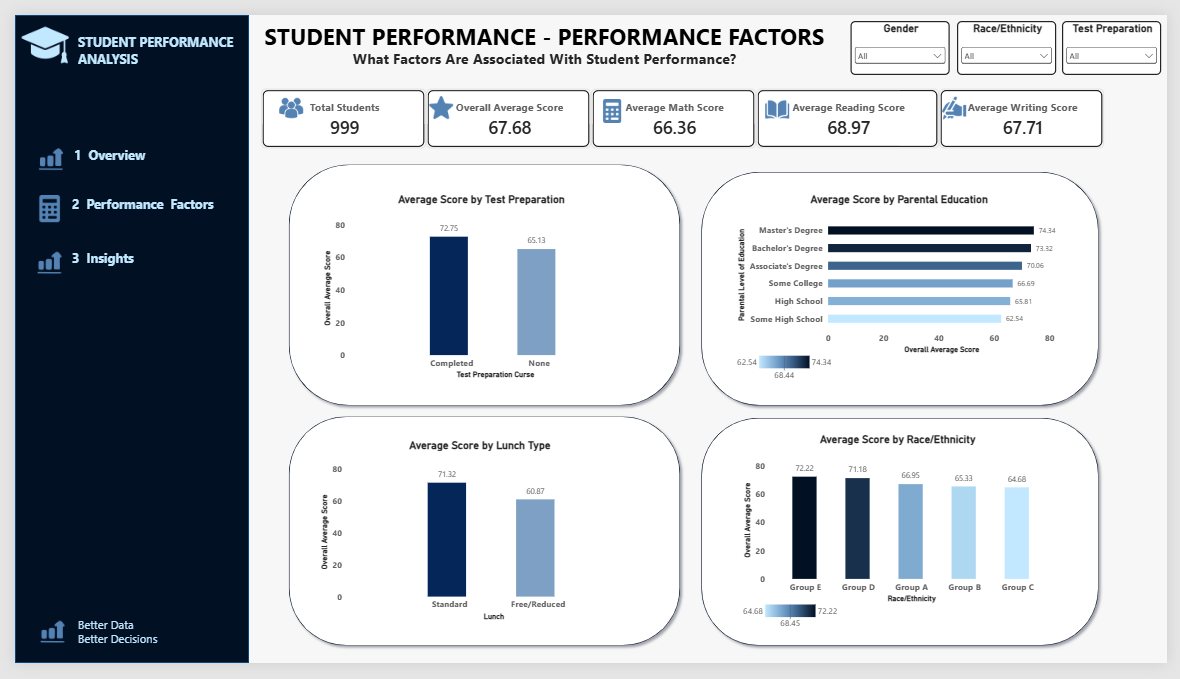

The page's visual inventory and layout, read from the dashboard file:
{"tool":"powerbi","page":{"name":"Performance  Factors","canvas":[1920,1080],"ordinal":1},"visuals":[{"type":"shape","box":[1135,252.5,680,407.5],"z":0},{"type":"shape","box":[1135,662.5,680,397.5],"z":1000},{"type":"shape","box":[447.5,660,670,400],"z":2000},{"type":"shape","box":[447.5,240,670,420],"z":3000},{"type":"cardVisual","fields":{"Data":["Students.Total Students"]},"box":[410,122.5,275,100],"z":4000},{"type":"cardVisual","fields":{"Data":["Students.Overall Average Score"]},"box":[685,122.5,275,100],"z":5000},{"type":"cardVisual","fields":{"Data":["Students.Average Math Score"]},"box":[960,122.5,275,100],"z":6000},{"type":"cardVisual","fields":{"Data":["Students.Average Reading Score"]},"box":[1235,122.5,305,100],"z":7000},{"type":"cardVisual","fields":{"Data":["Students.Average Writing Score"]},"box":[1540,122.5,275,100],"z":8000},{"type":"textbox","box":[290,0,1185,122.5],"z":9000},{"type":"shape","box":[0,0,390,1080],"z":10000},{"type":"image","box":[0,5,100,90],"z":11000},{"type":"textbox","box":[105,30,267.5,142.5],"z":12000},{"type":"slicer","title":"Gender","fields":{"Values":["Students.Gender"]},"box":[1392.5,10,165,90],"z":13000},{"type":"slicer","title":"Race/Ethnicity","fields":{"Values":["Students.Race/Ethnicity"]},"box":[1570,10,165,90],"z":14000},{"type":"slicer","title":"Test Preparation","fields":{"Values":["Students.Test Preparation Curse"]},"box":[1745,10,165,90],"z":15000},{"type":"textbox","box":[105,1002.5,267.5,57.5],"z":16000},{"type":"image","box":[15,300,85,45],"z":17000},{"type":"image","box":[27.5,217.5,65,45],"z":18000},{"type":"image","box":[30,1005,65,45],"z":19000},{"type":"image","box":[25,390,65,45],"z":20000},{"type":"textbox","box":[95,300,277.5,60],"z":21000},{"type":"textbox","box":[95,390,195,45],"z":22000},{"type":"textbox","box":[92.5,217.5,297.5,82.5],"z":23000},{"type":"clusteredColumnChart","title":"Average Score by Test Preparation","fields":{"Category":["Students.Test Preparation Curse"],"Y":["Students.Overall Average Score"]},"box":[497.5,282.5,560,340],"z":24000},{"type":"clusteredBarChart","title":"Average Score by Parental Education","fields":{"Category":["Students.Parental Level of Education"],"Y":["Students.Overall Average Score"]},"box":[1187.5,282.5,572.5,340],"z":25000},{"type":"clusteredColumnChart","title":"Average Score by Lunch Type","fields":{"Category":["Students.Lunch"],"Y":["Students.Overall Average Score"]},"box":[492.5,692.5,565,332.5],"z":26000},{"type":"clusteredColumnChart","title":"Average Score by Race/Ethnicity","fields":{"Category":["Students.Race/Ethnicity"],"Y":["Students.Overall Average Score"]},"box":[1197.5,682.5,547.5,355],"z":27000},{"type":"image","box":[435,135,50,40],"z":27001},{"type":"image","box":[685,135,50,40],"z":27002},{"type":"image","box":[970,140,50,40],"z":27003},{"type":"image","box":[1245,137.5,50,40],"z":27004},{"type":"image","box":[1540,135,50,40],"z":27005}]}

Visuals, with their boxes on the page's 1920x1080 design canvas (x1, y1, x2, y2). These are canvas units, not pixel positions in the 1180x679 screenshot, which may show the page scaled, cropped or inside an application window:
shape: bbox(1135, 252, 1815, 660)
shape: bbox(1135, 662, 1815, 1060)
shape: bbox(448, 660, 1118, 1060)
shape: bbox(448, 240, 1118, 660)
cardVisual - Students.Total Students: bbox(410, 122, 685, 222)
cardVisual - Students.Overall Average Score: bbox(685, 122, 960, 222)
cardVisual - Students.Average Math Score: bbox(960, 122, 1235, 222)
cardVisual - Students.Average Reading Score: bbox(1235, 122, 1540, 222)
cardVisual - Students.Average Writing Score: bbox(1540, 122, 1815, 222)
textbox: bbox(290, 0, 1475, 122)
shape: bbox(0, 0, 390, 1080)
image: bbox(0, 5, 100, 95)
textbox: bbox(105, 30, 372, 172)
"Gender" slicer: bbox(1392, 10, 1558, 100)
"Race/Ethnicity" slicer: bbox(1570, 10, 1735, 100)
"Test Preparation" slicer: bbox(1745, 10, 1910, 100)
textbox: bbox(105, 1002, 372, 1060)
image: bbox(15, 300, 100, 345)
image: bbox(28, 218, 92, 262)
image: bbox(30, 1005, 95, 1050)
image: bbox(25, 390, 90, 435)
textbox: bbox(95, 300, 372, 360)
textbox: bbox(95, 390, 290, 435)
textbox: bbox(92, 218, 390, 300)
"Average Score by Test Preparation" clusteredColumnChart: bbox(498, 282, 1058, 622)
"Average Score by Parental Education" clusteredBarChart: bbox(1188, 282, 1760, 622)
"Average Score by Lunch Type" clusteredColumnChart: bbox(492, 692, 1058, 1025)
"Average Score by Race/Ethnicity" clusteredColumnChart: bbox(1198, 682, 1745, 1038)
image: bbox(435, 135, 485, 175)
image: bbox(685, 135, 735, 175)
image: bbox(970, 140, 1020, 180)
image: bbox(1245, 138, 1295, 178)
image: bbox(1540, 135, 1590, 175)
